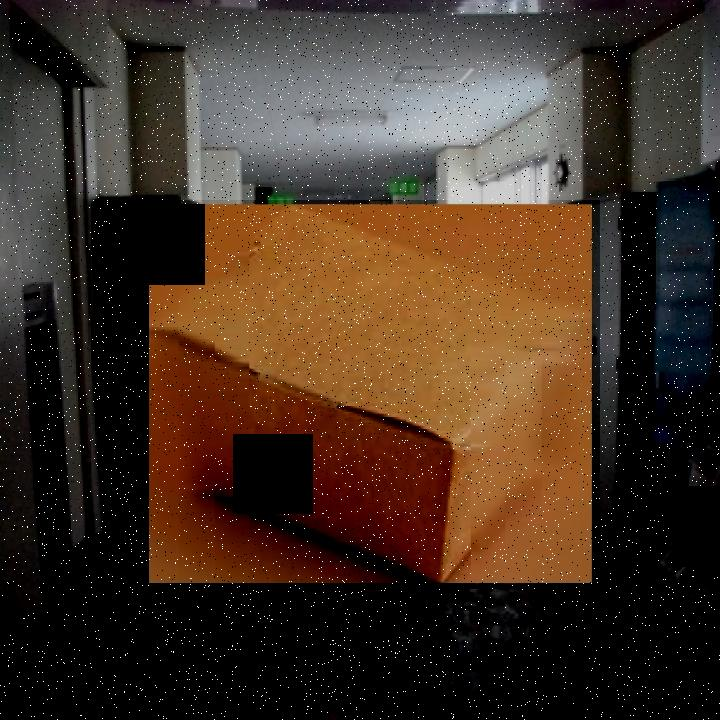box: (142, 200, 600, 589)
